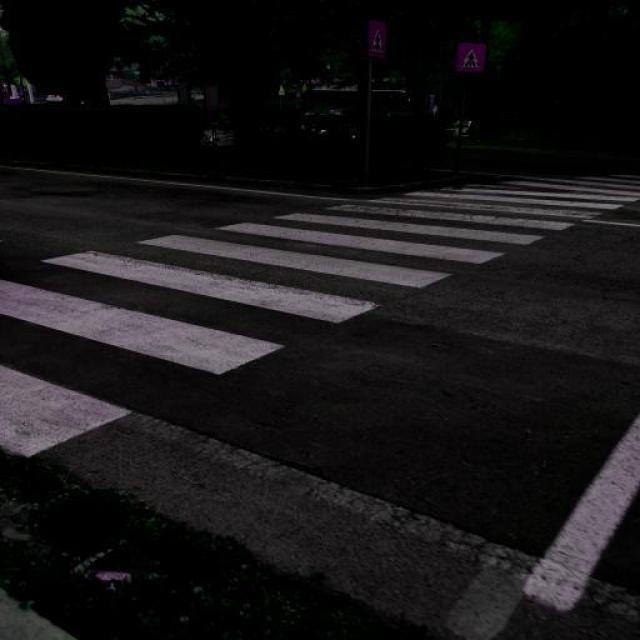crosswalk: (0, 175, 640, 460)
